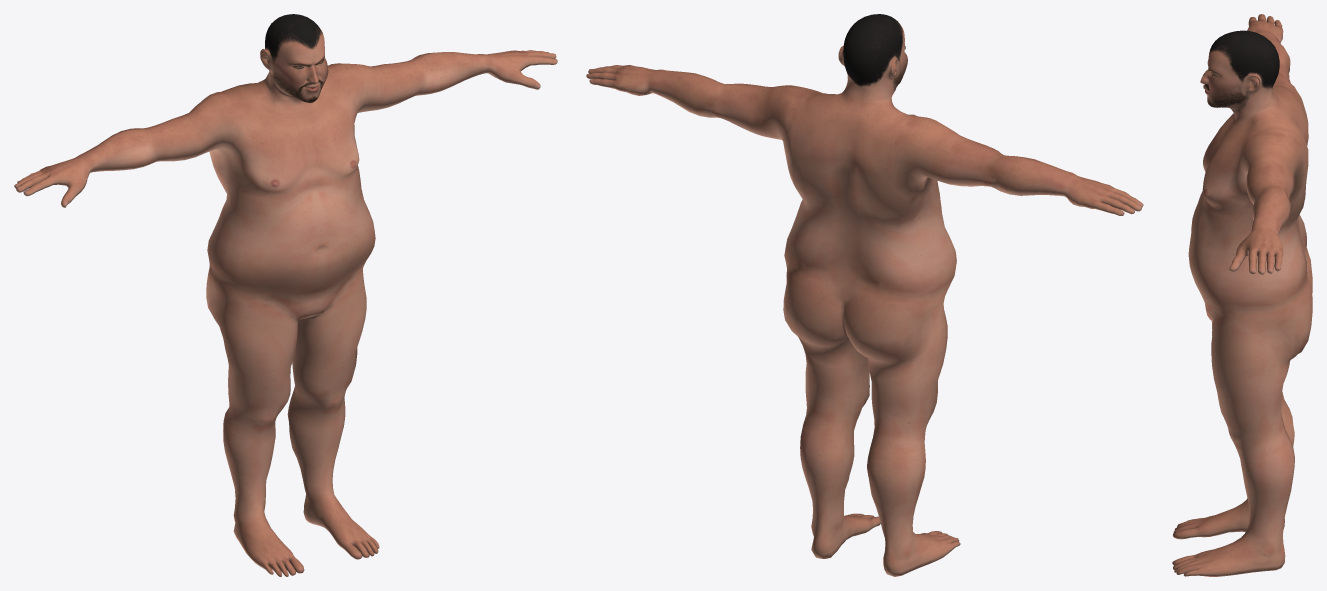
File: smile.obj
3 renders of one model, left to right at view 1: azimuth 30°, elevation 25°; view 2: azimuth 150°, elevation 25°; view 3: azimuth 270°, elevation 25°, orthographic. The views are drawn at different scales.
Visible parts, largest first — view 1: Body; view 2: Body; view 3: Body.
Part boxes in pixels (x1,y1,x2,y2): Body: (14, 14, 557, 576); Body: (586, 14, 1143, 576); Body: (1172, 14, 1312, 576).
Size of the model in its own units: 195 by 181 by 44.4.
Materials: 1 (1 with a texture image).
